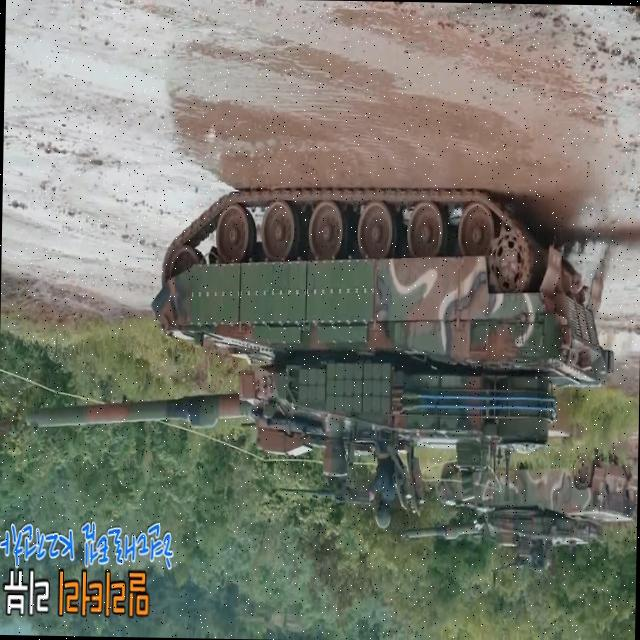korea tank: (19, 182, 618, 534)
